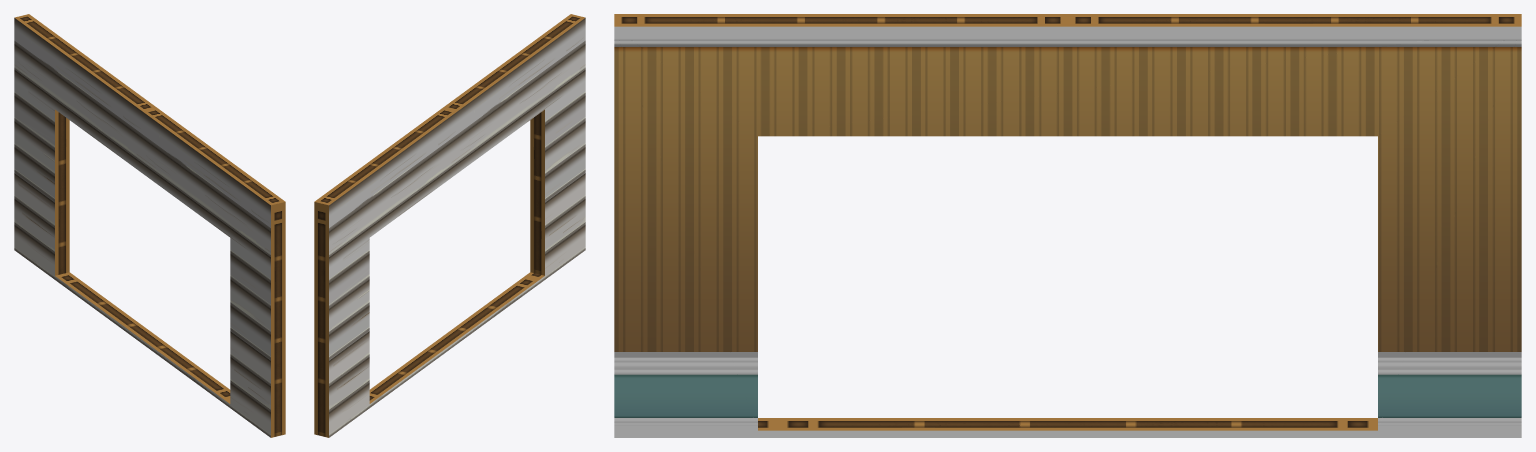
The model's file is wall01_6m_door_A.fbx.
3 renders of one model, left to right at view 1: azimuth 30°, elevation 25°; view 2: azimuth 150°, elevation 25°; view 3: azimuth 270°, elevation 25°, orthographic. The views are drawn at different scales.
Parts seen in each view (by area): view 1: wall01_6m_door_A; view 2: wall01_6m_door_A; view 3: wall01_6m_door_A.
Part boxes in pixels (<box>): wall01_6m_door_A: <box>14,14,285,437</box>; wall01_6m_door_A: <box>314,14,585,437</box>; wall01_6m_door_A: <box>614,14,1521,437</box>.
Bounding box in the file's own units: 20 × 300 × 600.
